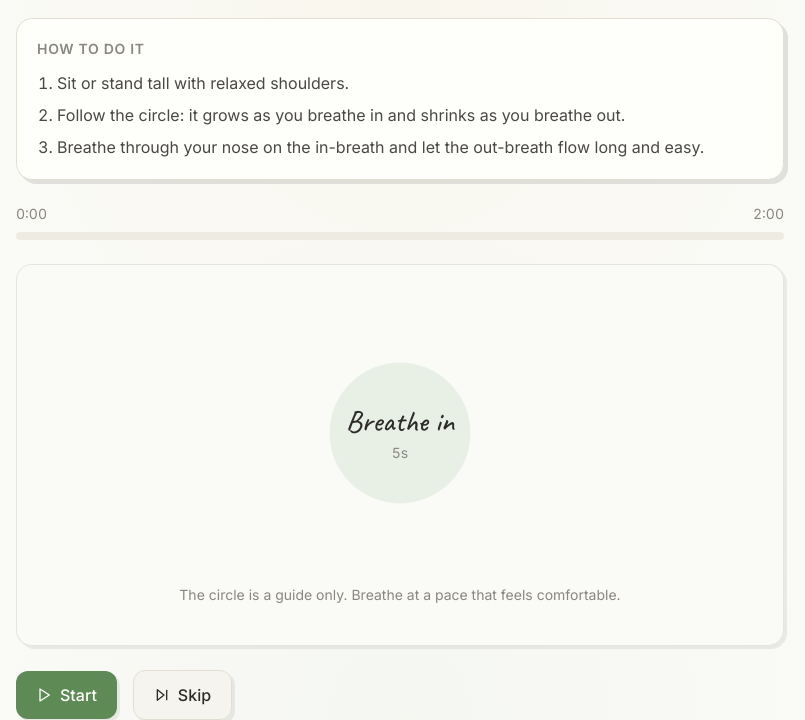
Test: RoutinePlayer › moves to the next step when a step is skipped
The width and height of the screenshot is (805, 720).
(page scrolled)
Click the button "Skip" at [182, 695], box [133,670,232,719]
(page scrolled)
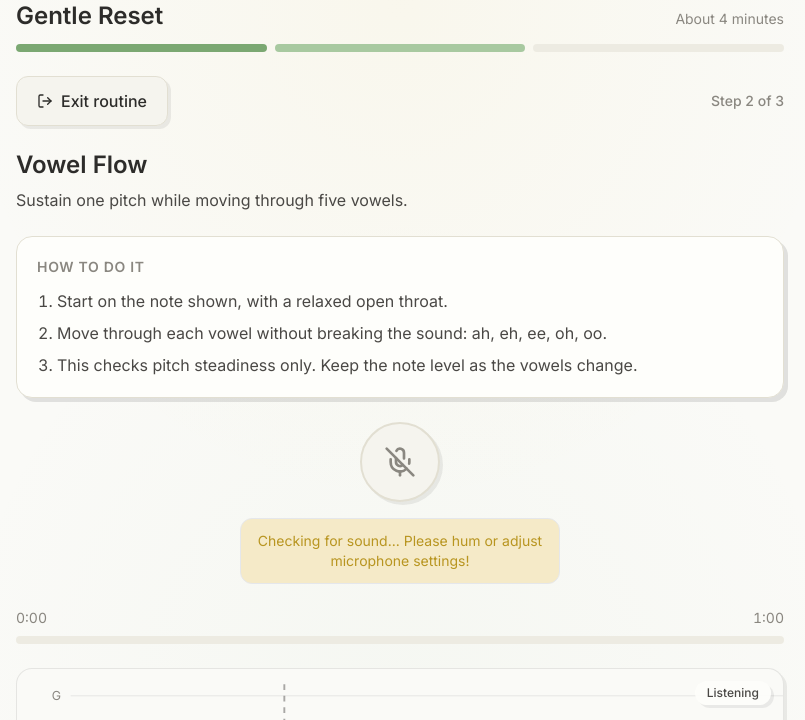
Result: the text "Step 2 of 3" is shown at [711,91,784,111]
Result: the heading "Vowel Flow" is shown at [16,150,147,179]
